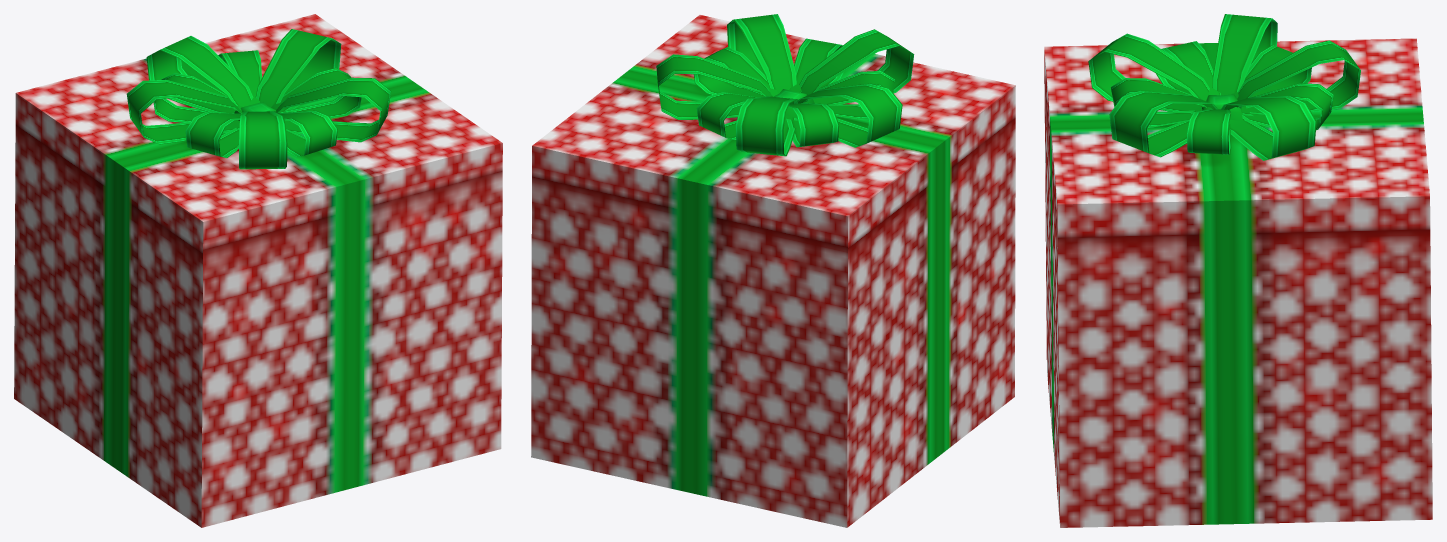
File: Gift9.FBX
3 renders of one model, left to right at view 1: azimuth 30°, elevation 25°; view 2: azimuth 150°, elevation 25°; view 3: azimuth 270°, elevation 25°, orthographic. The views are drawn at different scales.
Visible parts, largest first — view 1: Gift9; view 2: Gift9; view 3: Gift9.
Boxes of the visible parts, x1,y1,x2,y2 form: Gift9: [14, 14, 502, 527]; Gift9: [531, 14, 1015, 527]; Gift9: [1044, 14, 1432, 527].
Bounding box in the file's own units: 10.94 × 11.8 × 11.01.
Materials: 1 (1 with a texture image).
